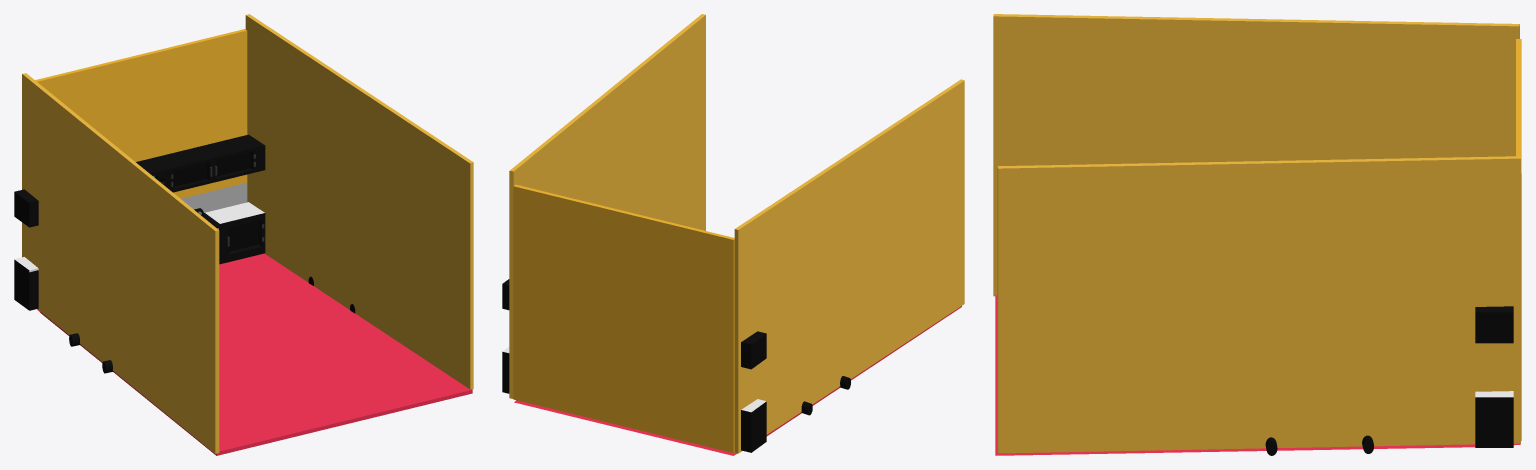
Rendered from KitchenScene.obj.
3 views of the same model, side by side, from view 1: azimuth 30°, elevation 25°; view 2: azimuth 150°, elevation 25°; view 3: azimuth 270°, elevation 25° (orthographic). The views are drawn at different scales.
Visible parts, largest first — view 1: group1 pCube5, group1 pCube4, group1 pCube11, group1 pCube1, group1 pCube8, group1 pCube7; view 2: group1 pCube4, group1 pCube1, group1 pCube5, group1 pCube7, group1 pCube11, group1 pCube8; view 3: group1 pCube5, group1 pCube4, group1 pCube7, group1 pCube11, group1 pCube8, group1 pCube1.
Boxes of the visible parts, bbox=[...] form: group1 pCube5: bbox=[245, 14, 473, 389]; group1 pCube4: bbox=[22, 73, 219, 453]; group1 pCube11: bbox=[37, 253, 472, 455]; group1 pCube1: bbox=[35, 29, 247, 212]; group1 pCube8: bbox=[14, 134, 265, 227]; group1 pCube7: bbox=[14, 202, 265, 310]; group1 pCube4: bbox=[734, 79, 964, 453]; group1 pCube1: bbox=[513, 184, 734, 453]; group1 pCube5: bbox=[509, 14, 705, 398]; group1 pCube7: bbox=[502, 347, 766, 452]; group1 pCube11: bbox=[514, 306, 961, 455]; group1 pCube8: bbox=[502, 279, 766, 369]; group1 pCube5: bbox=[997, 156, 1520, 453]; group1 pCube4: bbox=[993, 14, 1519, 296]; group1 pCube7: bbox=[1475, 391, 1513, 447]; group1 pCube11: bbox=[995, 295, 1520, 455]; group1 pCube8: bbox=[1475, 306, 1513, 343]; group1 pCube1: bbox=[1516, 39, 1521, 440].
Bounding box in the file's own units: 28.56 × 24.11 × 39.98.
